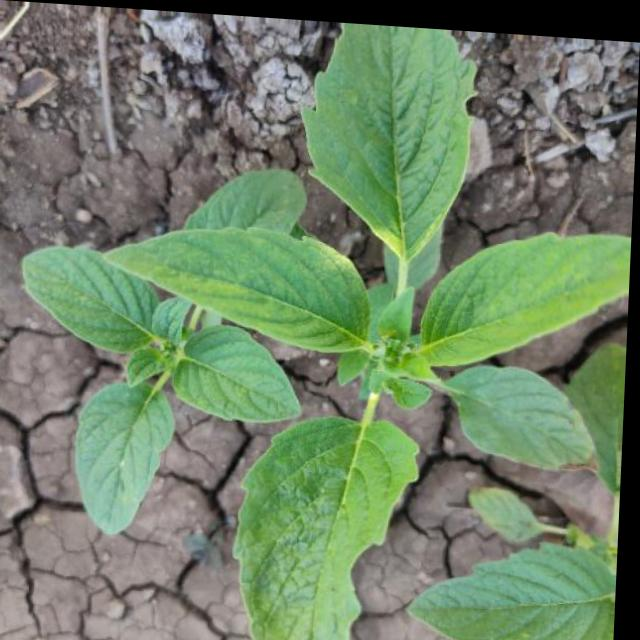crop: (143, 21, 640, 640), (12, 160, 343, 525)
